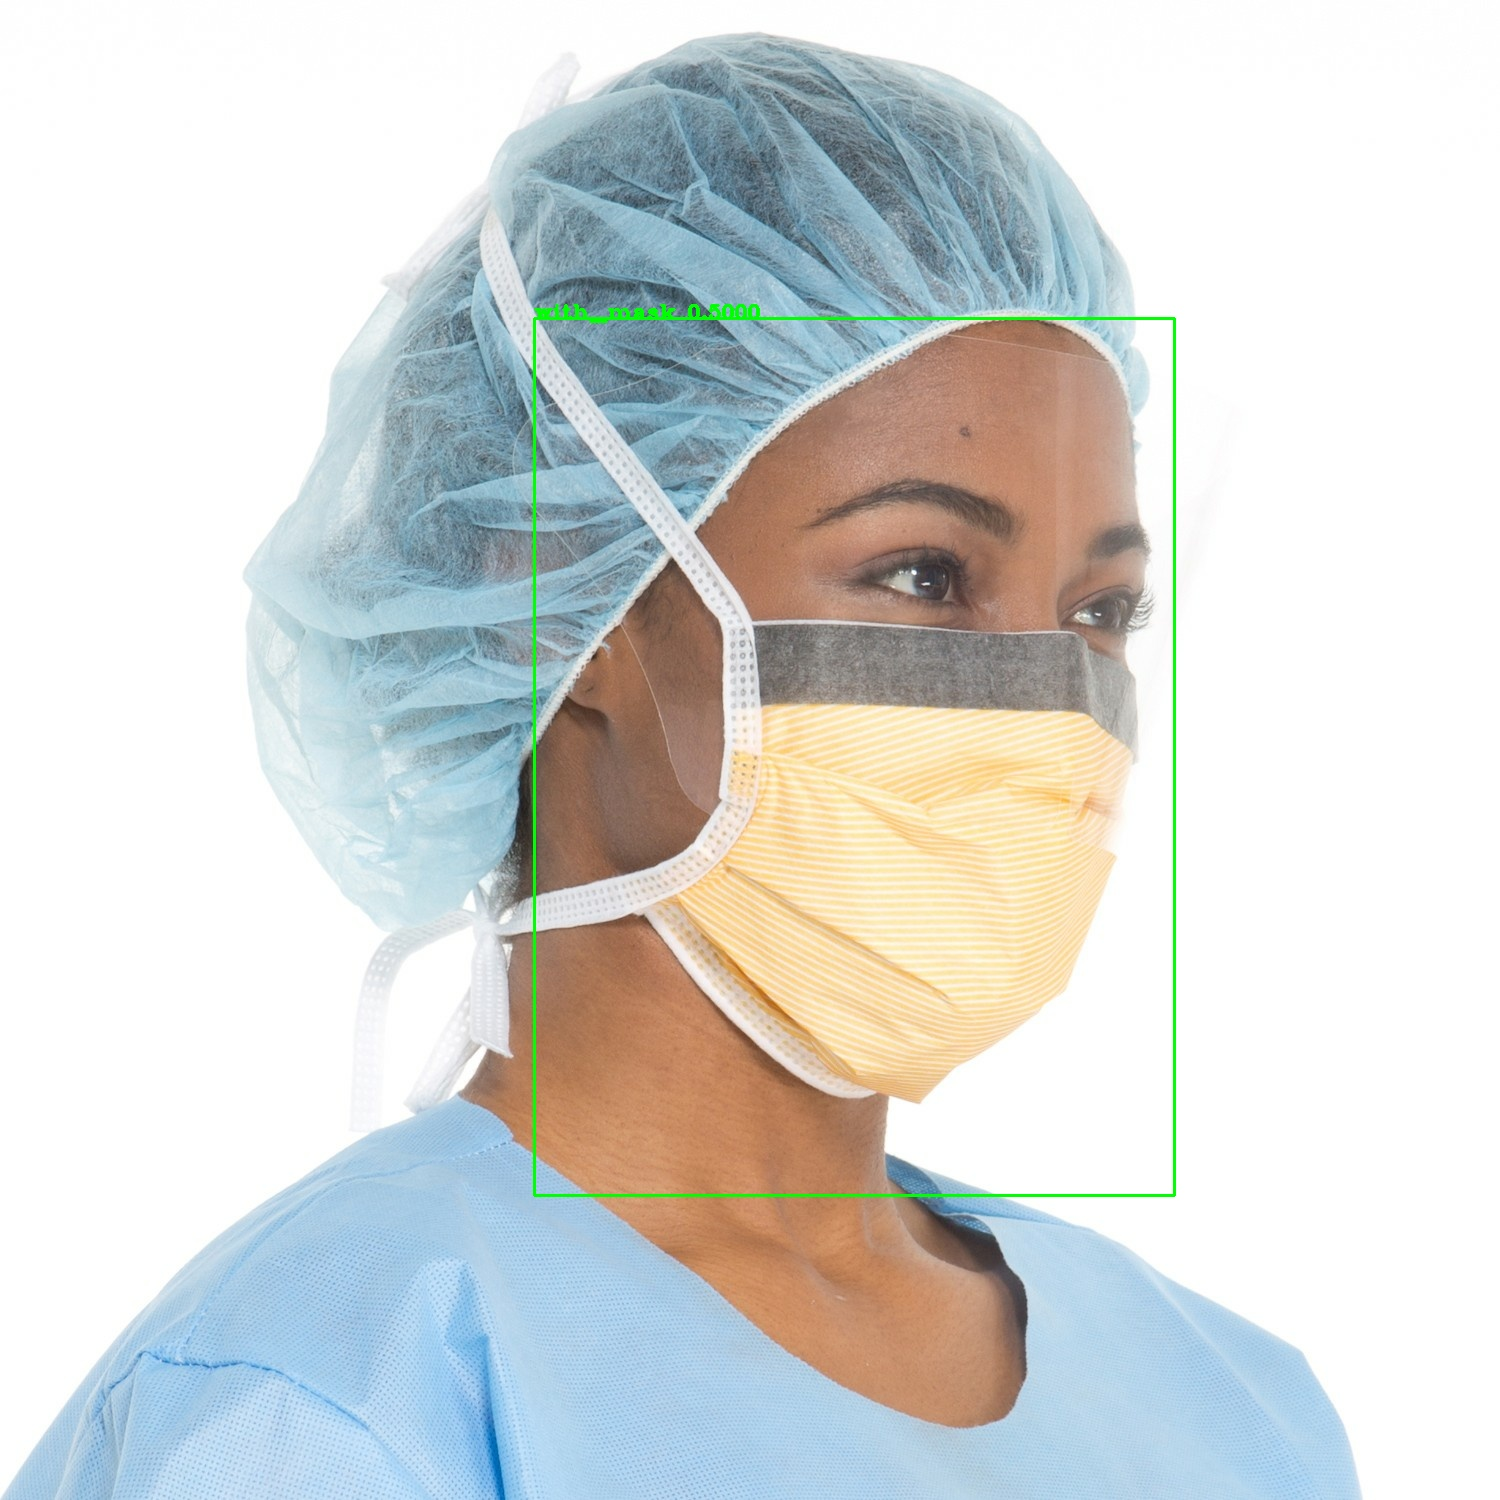with_mask: (391, 237, 1185, 1152)
